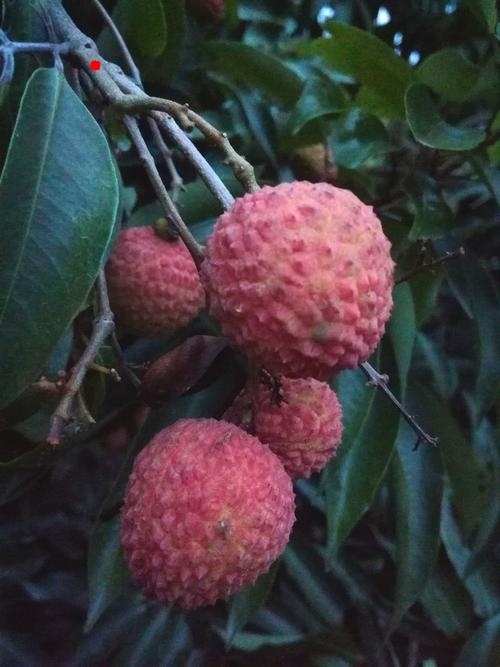litchi: (98, 187, 392, 600)
stem: (45, 1, 149, 123)
